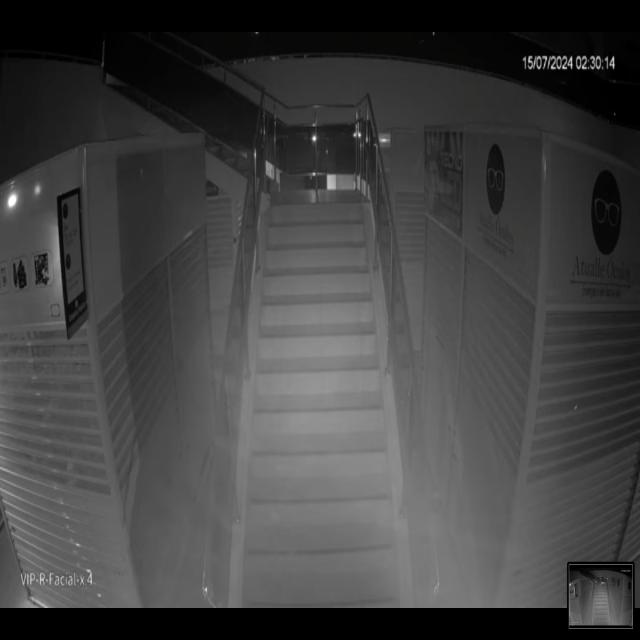Atencao: (162, 252, 545, 600)
